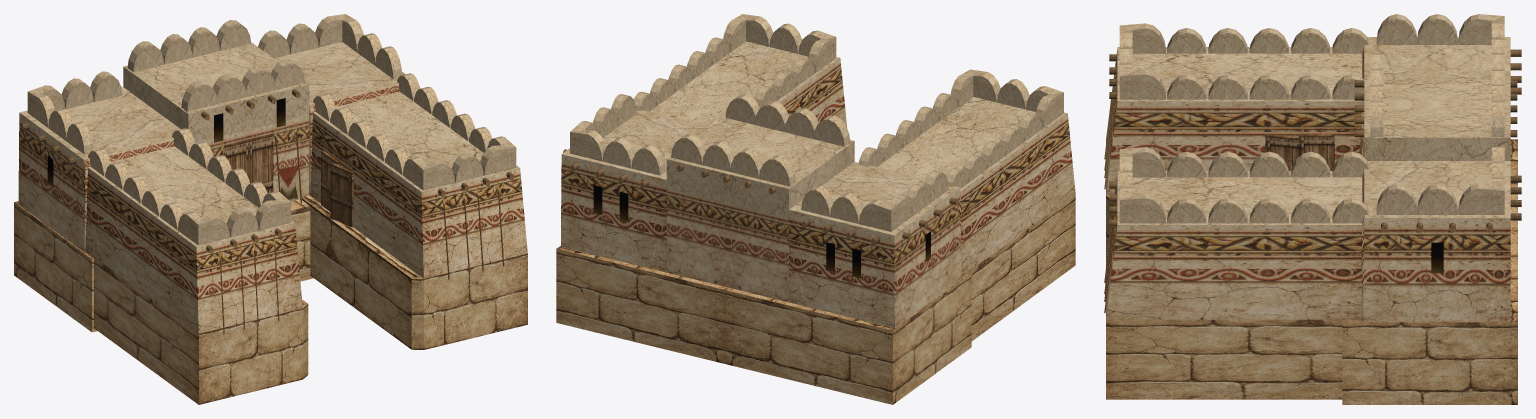
File: barracks.dae
3 views of the same model, side by side, from view 1: azimuth 30°, elevation 25°; view 2: azimuth 150°, elevation 25°; view 3: azimuth 270°, elevation 25° (orthographic). The views are drawn at different scales.
Visible parts, largest first — view 1: barracks.001; view 2: barracks.001; view 3: barracks.001.
Part boxes in pixels (x1,y1,x2,y2): barracks.001: (14, 14, 527, 404); barracks.001: (556, 14, 1075, 404); barracks.001: (1104, 14, 1521, 404).
Size of the model in its own units: 26.17 by 24.56 by 15.25.
